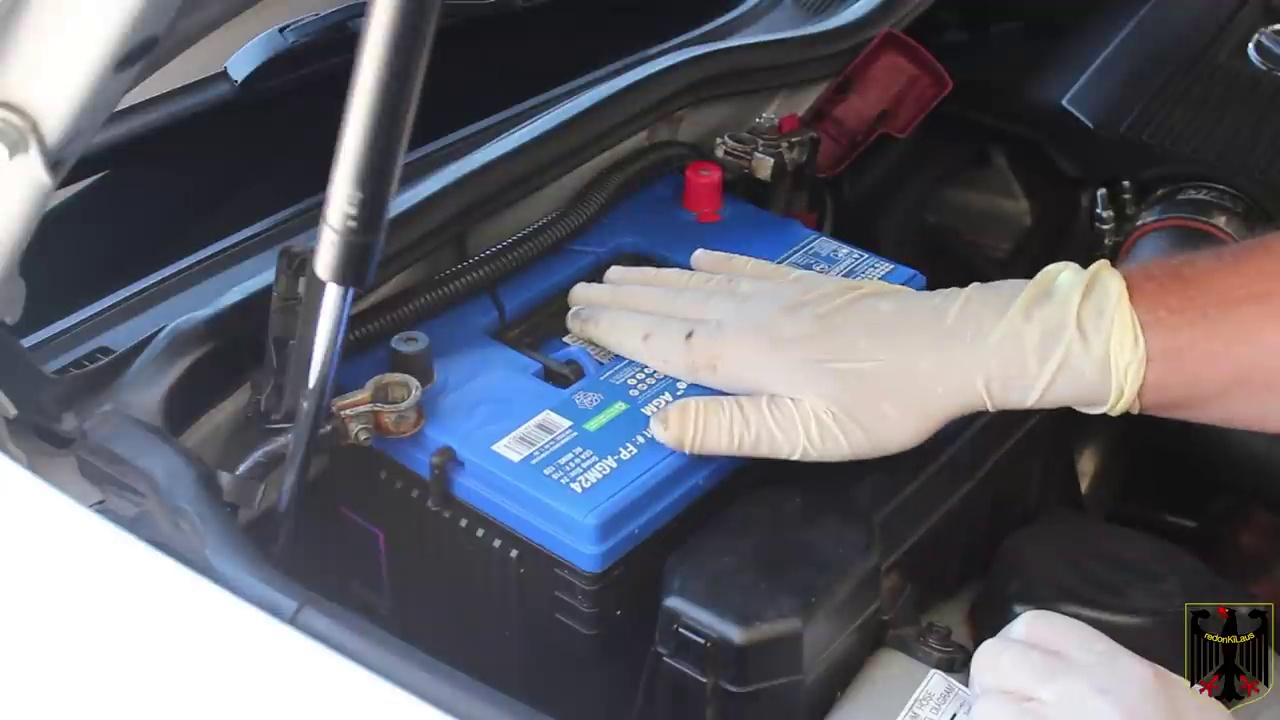battery: (336, 162, 923, 505)
pos_disconnected: (649, 40, 930, 232)
